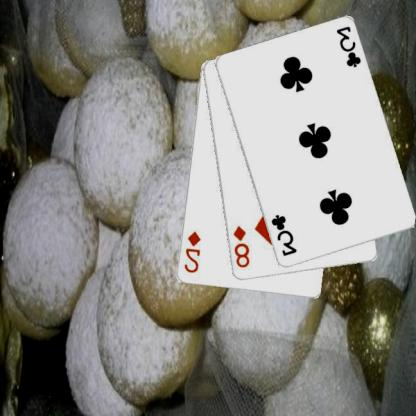2D: (183, 228, 203, 274)
3C: (270, 212, 300, 258), (335, 24, 364, 69)
8D: (232, 223, 253, 270)
